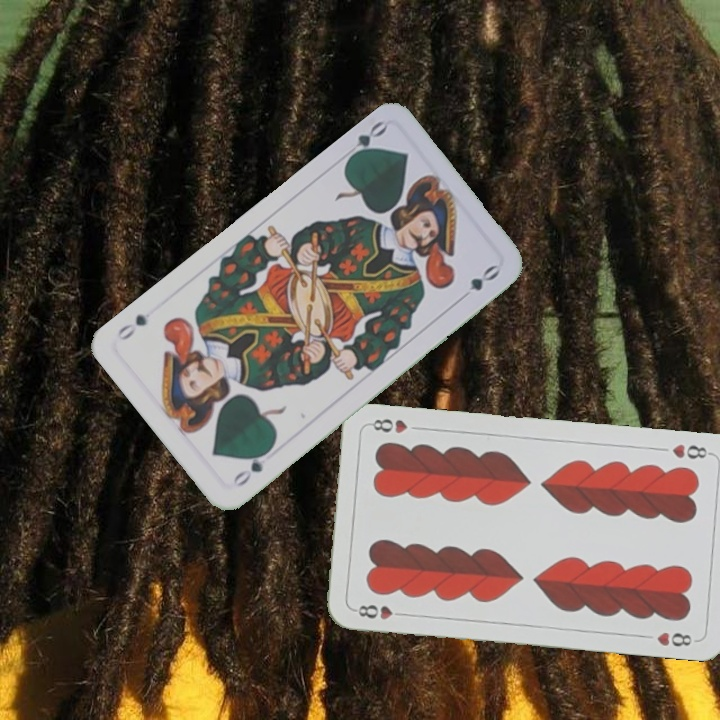GO: (342, 117, 389, 165), (228, 444, 274, 489)
H8: (350, 600, 409, 622), (668, 440, 714, 462)
